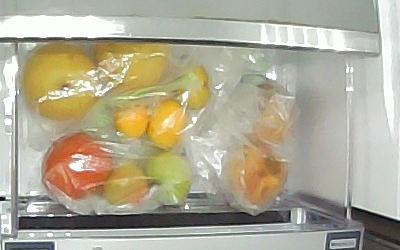peach_vinyl: (228, 139, 290, 205), (245, 86, 287, 143)
pear_vinyl: (22, 42, 99, 123), (94, 42, 169, 90)
tangerine_vinyl: (147, 101, 185, 151), (176, 63, 211, 111), (113, 101, 149, 139)
tomato_vinyl: (41, 131, 114, 204), (146, 150, 194, 208), (105, 161, 147, 204)
